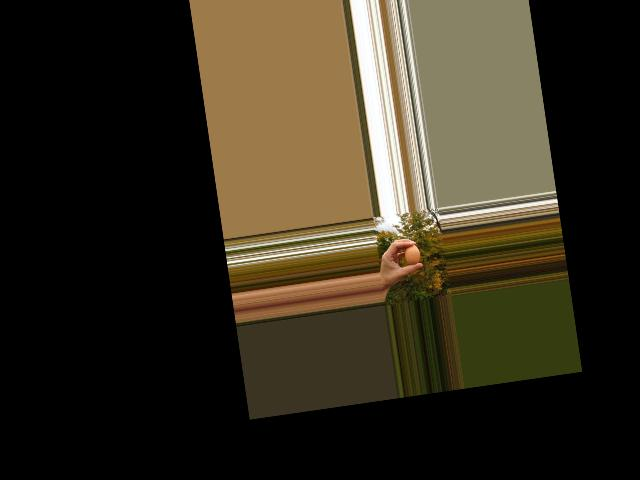egg: (403, 243, 421, 265)
